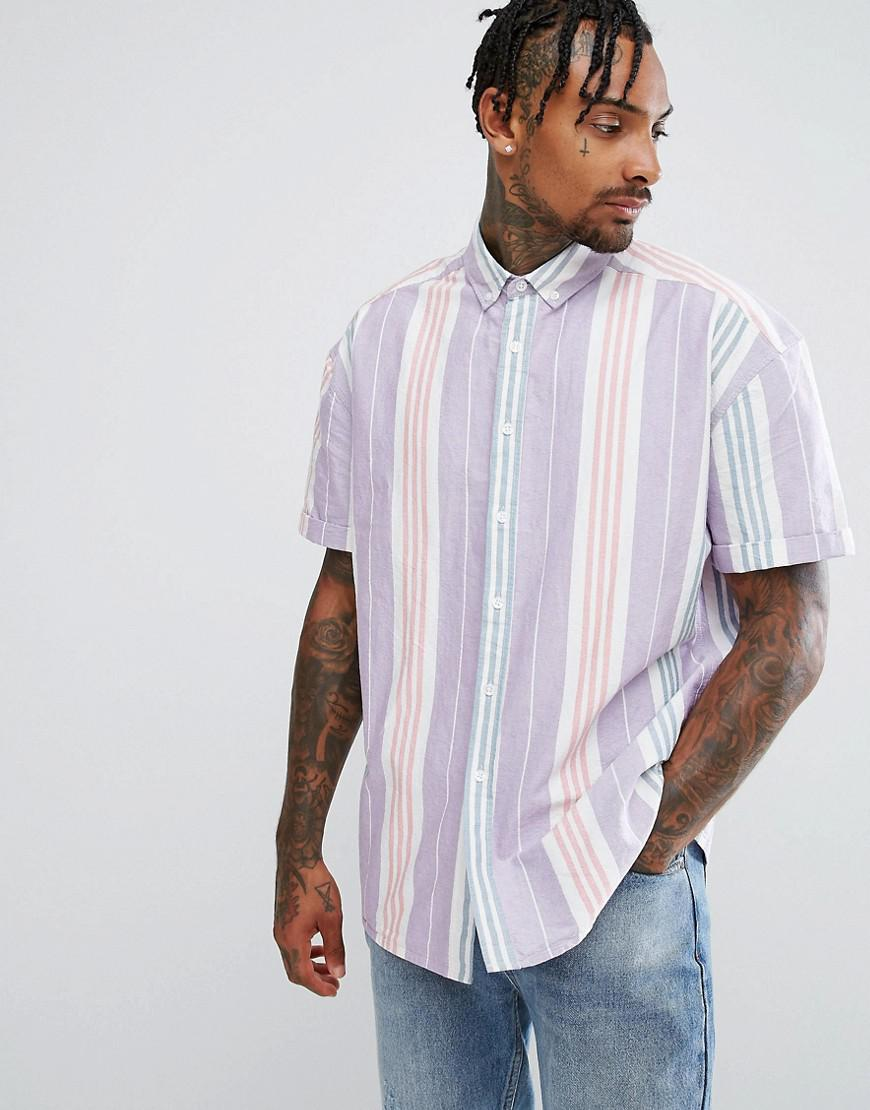teeshirt: (291, 220, 832, 962)
